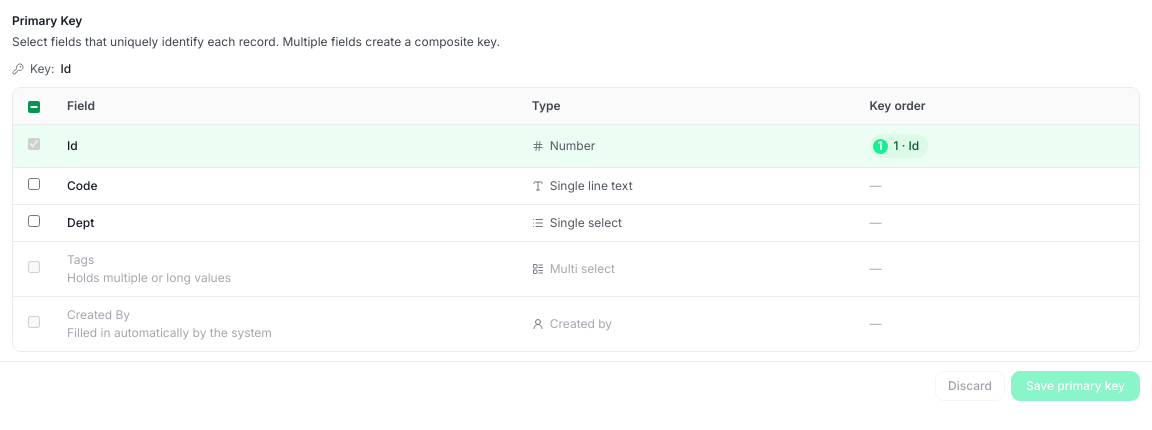
Test: PrimaryKeyPanel › builds a composite key in the order fields are picked and saves it
This screenshot has width=1152, height=430.
Expected: the button "Save primary key" is disabled, left=1011, top=371, right=1140, bottom=401
Click the checkbox named "Use Dept in the primary key" at x=34, y=221, box left=28, top=215, right=40, bottom=227
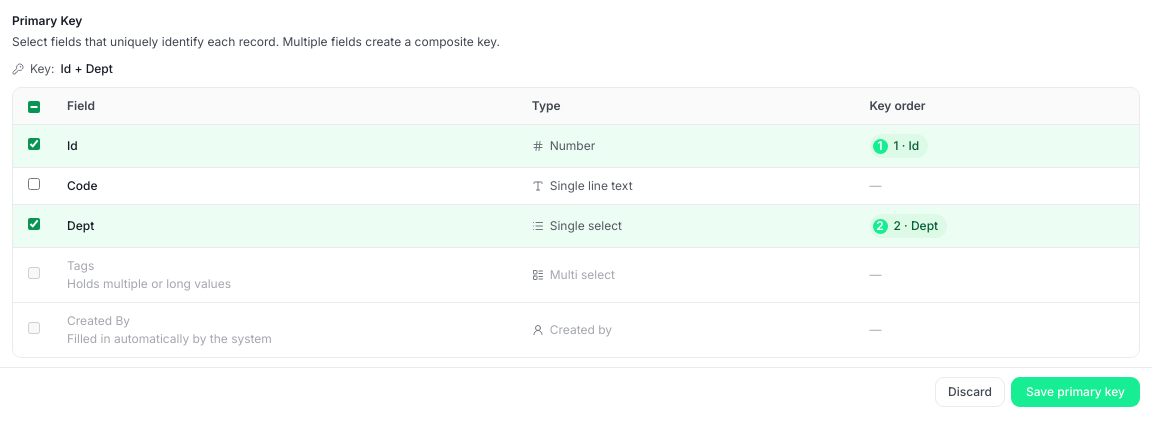
Click the checkbox named "Use Code in the primary key" at x=34, y=184, box left=28, top=178, right=40, bottom=190
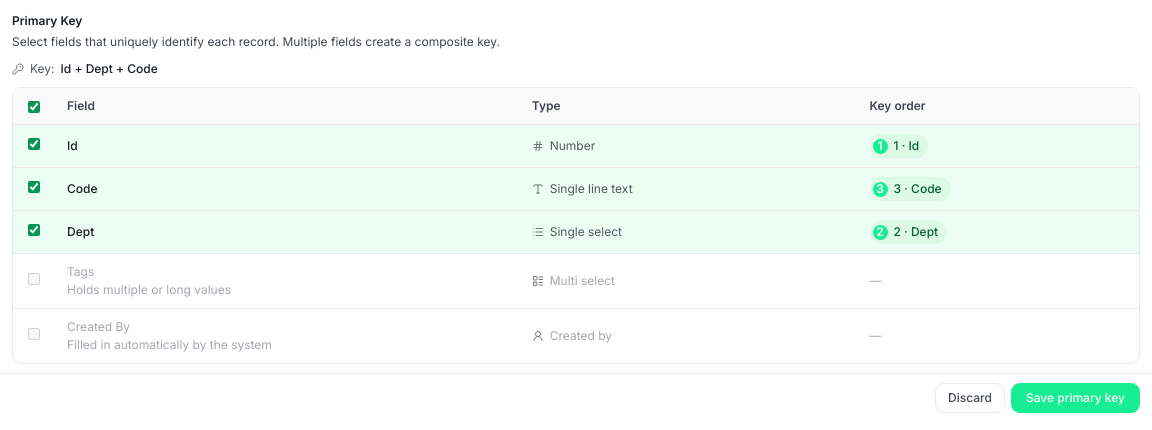
Click the checkbox named "Use Id in the primary key" at x=34, y=144, box left=28, top=138, right=40, bottom=150
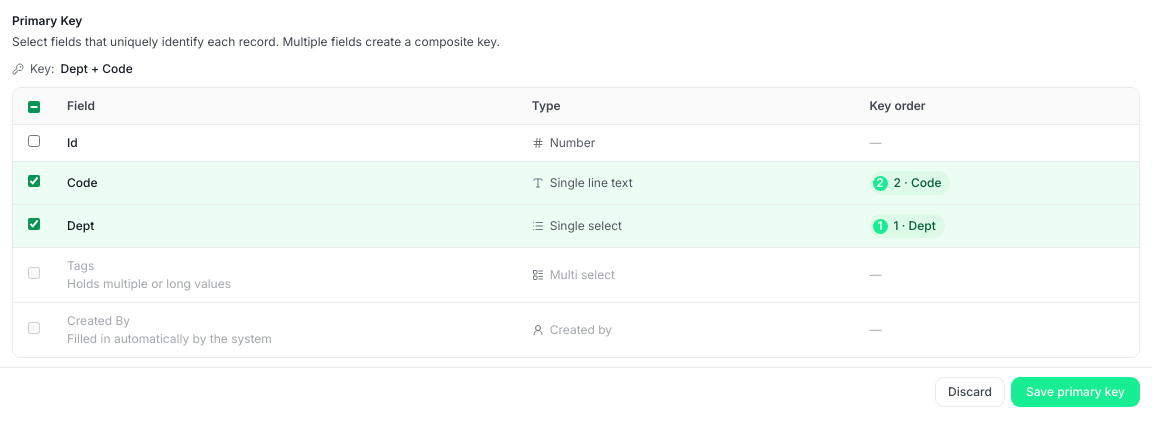
Expected: the text with test id "primary-key-summary" reads "Dept + Code", left=61, top=61, right=133, bottom=76
Expected: the element with test id "key-order-c-dept" shows "1 · Dept", left=870, top=214, right=945, bottom=238
Expected: the element with test id "key-order-c-code" shows "2 · Code", left=870, top=171, right=950, bottom=195
Click the button "Save primary key" at x=1076, y=392, box left=1011, top=377, right=1140, bottom=407
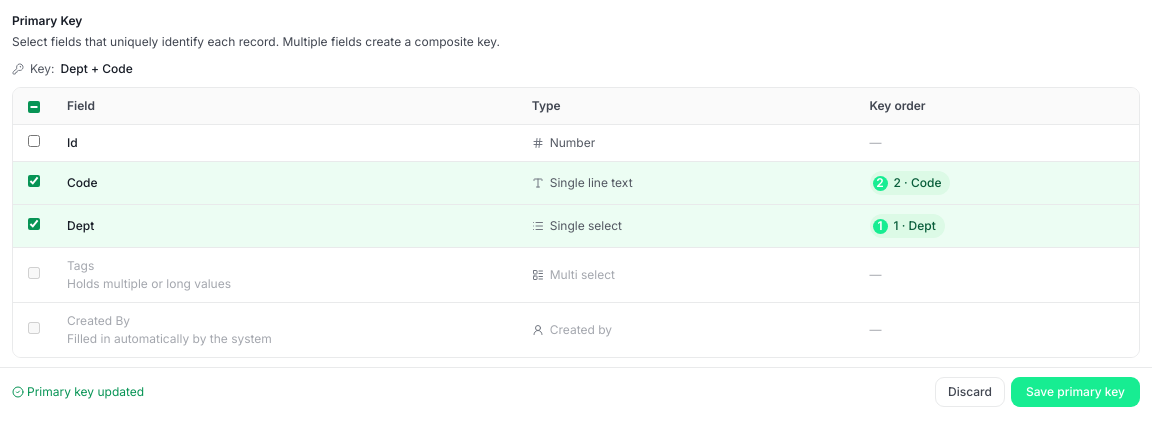
Expected: the text "Primary key updated" is shown, left=27, top=383, right=144, bottom=401
